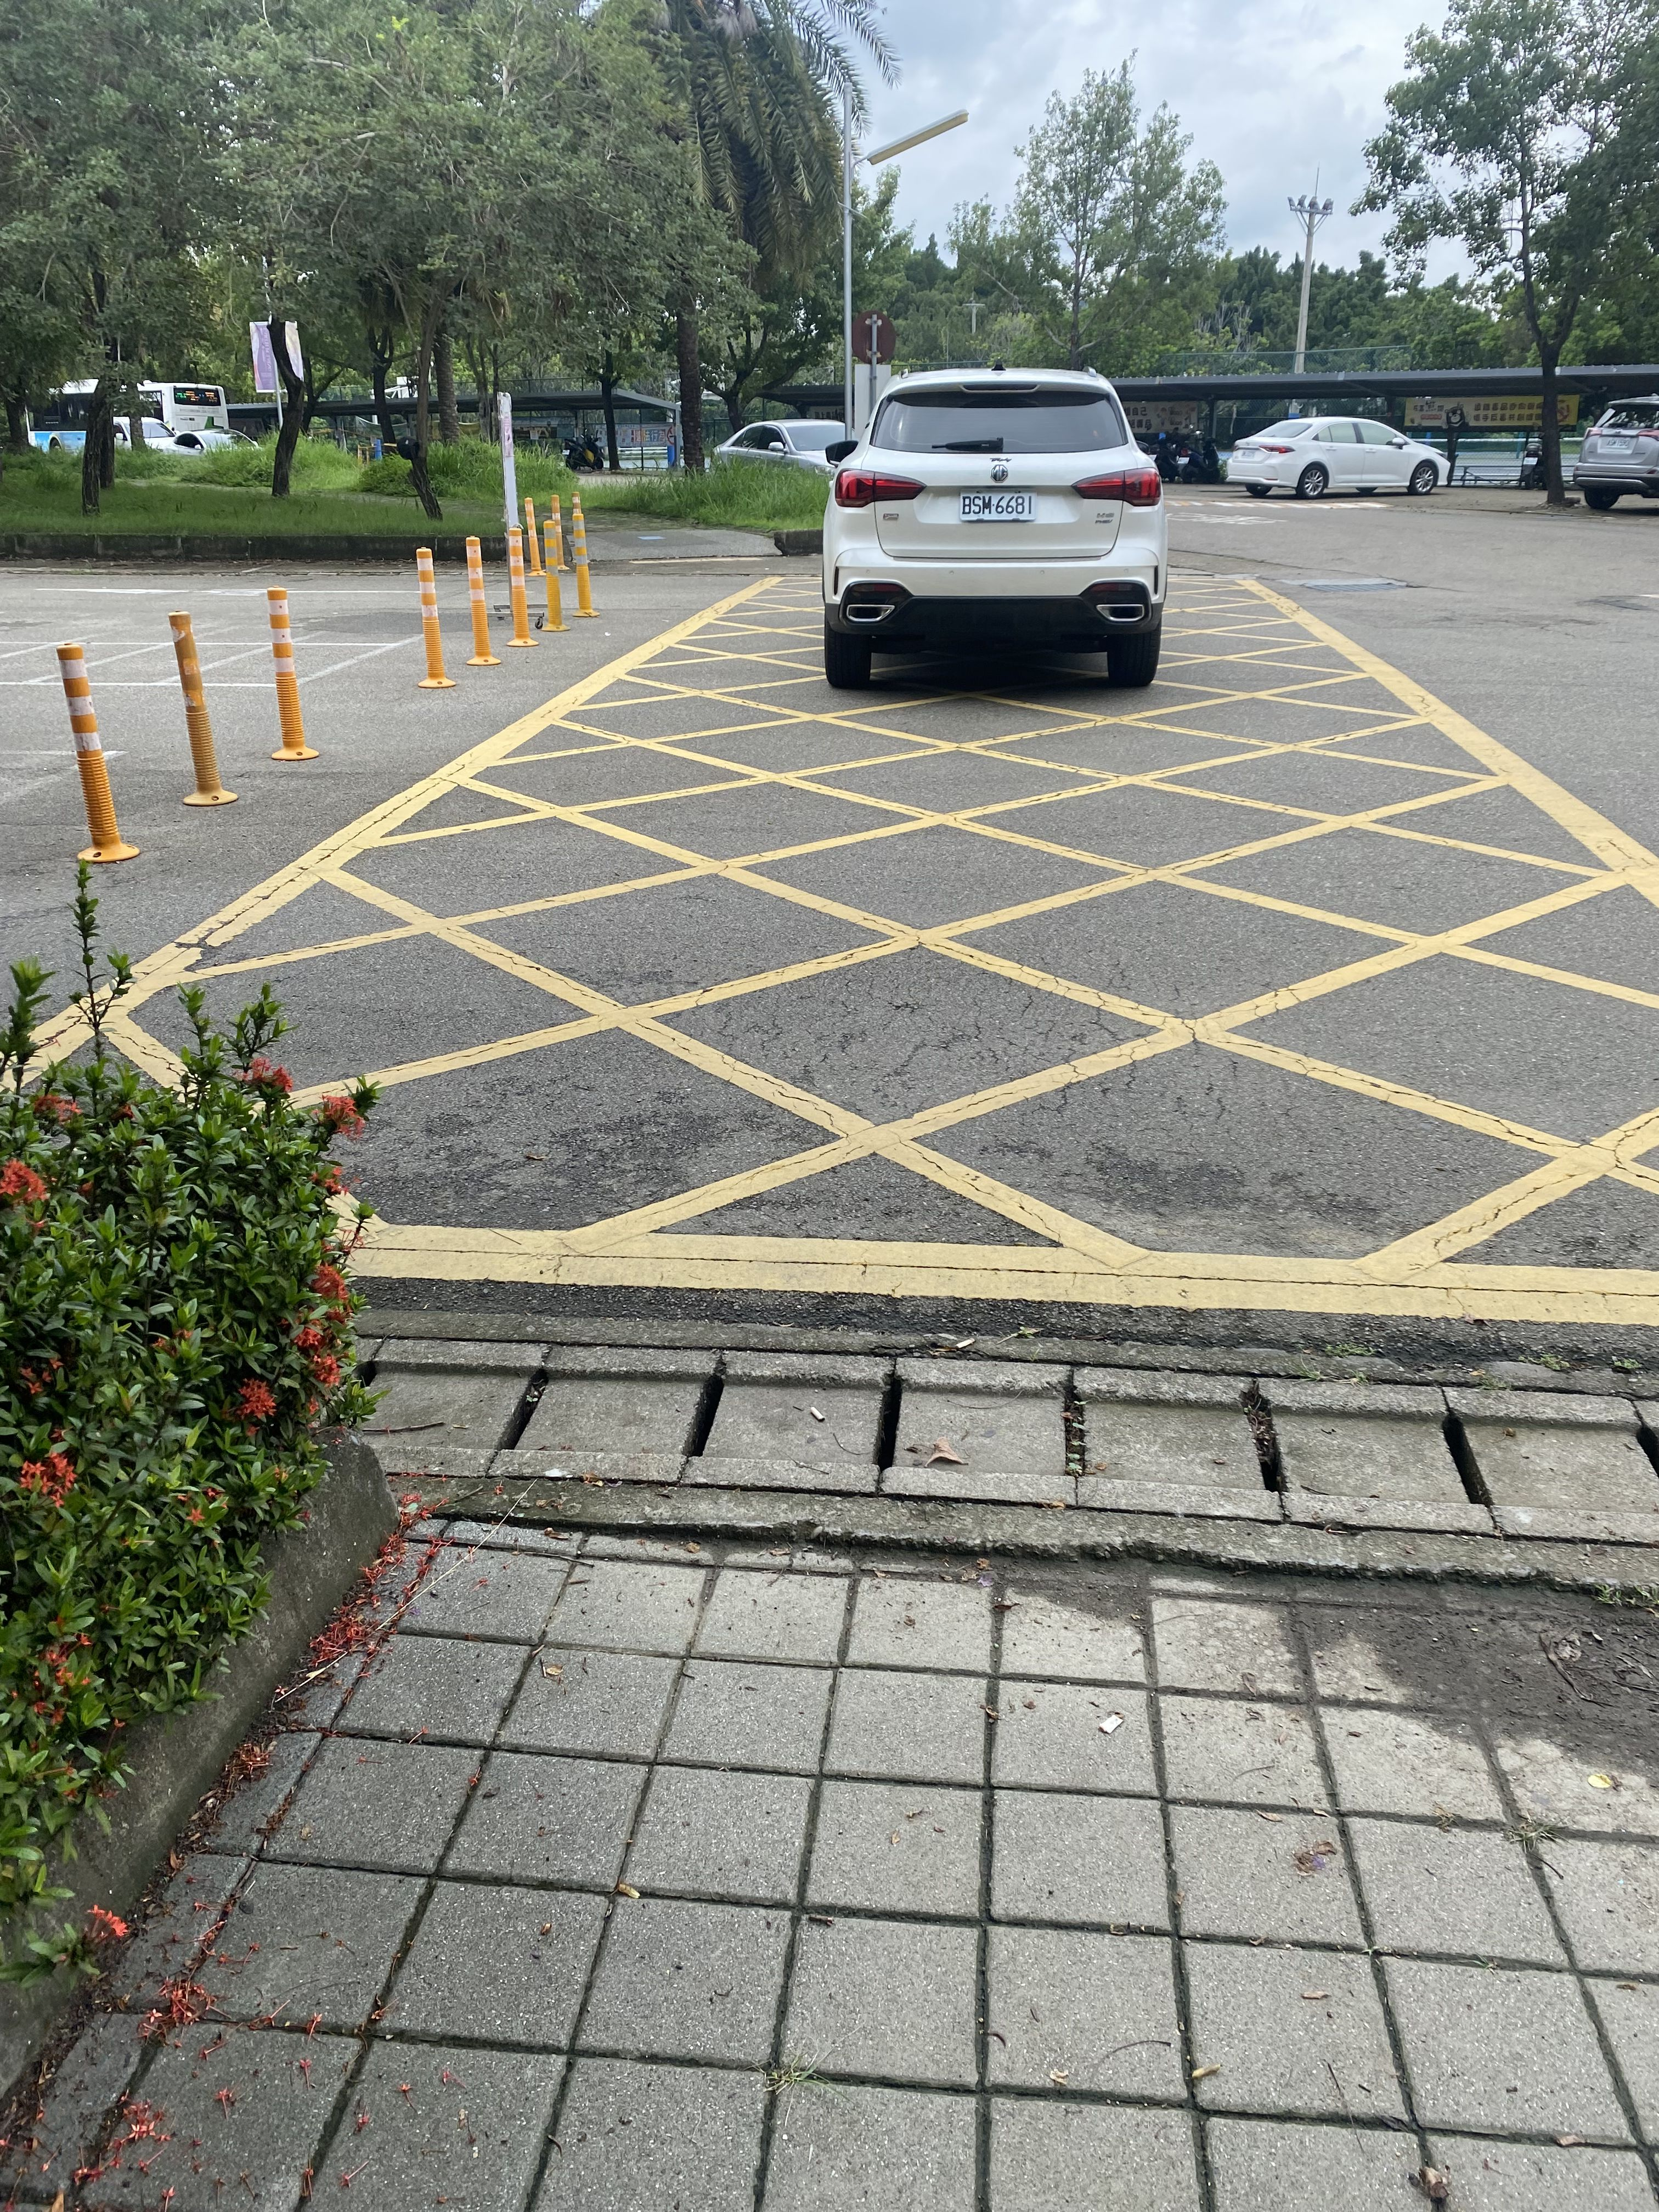sidewalk: (24, 1292, 1659, 2212)
